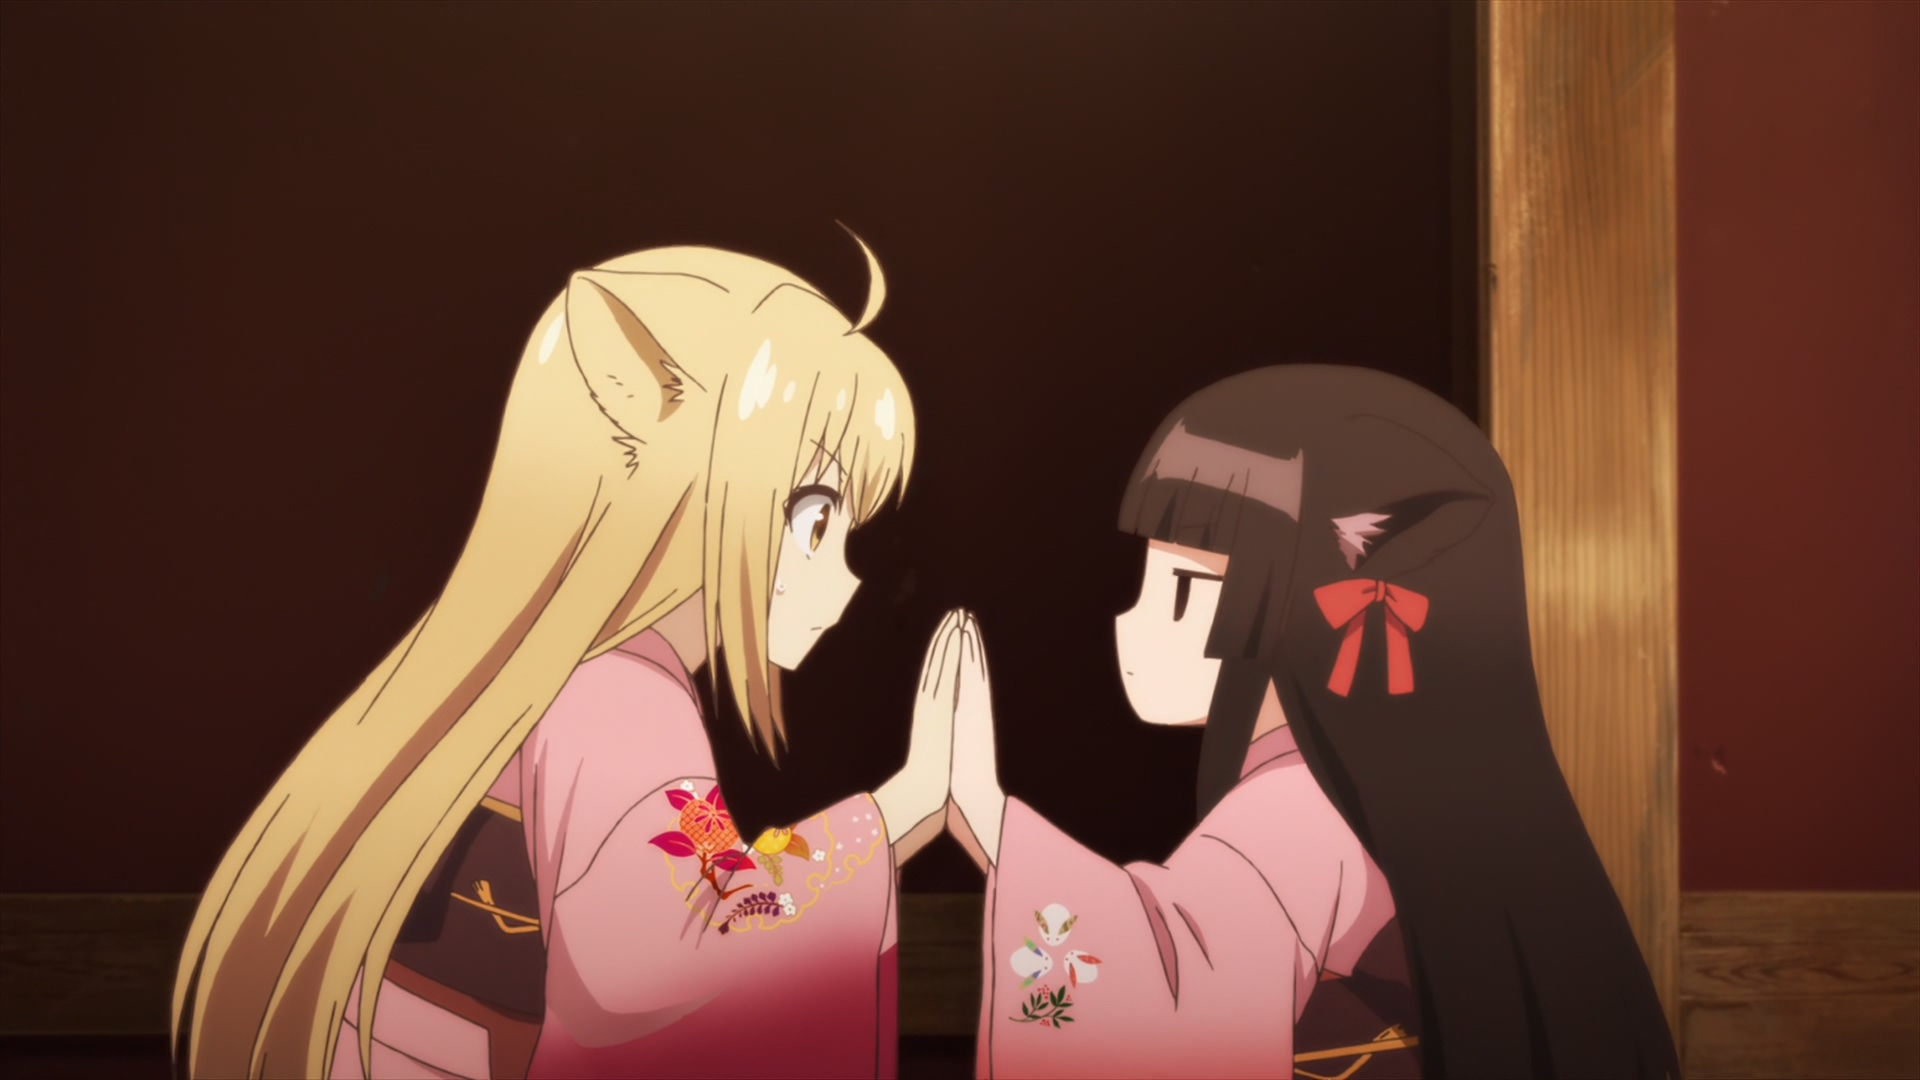柚: (173, 218, 959, 1080)
樱: (945, 363, 1679, 1080)
